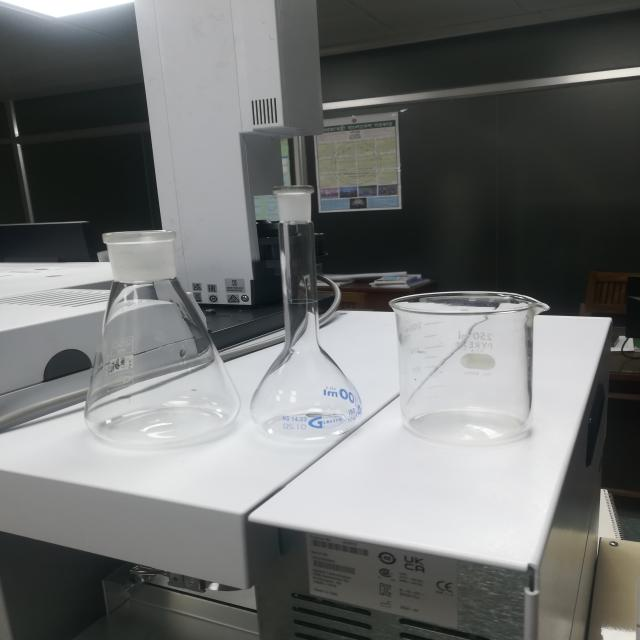Beaker: (379, 265, 562, 444)
Conical_Flask: (59, 195, 232, 448)
Volumetric_Flask: (254, 176, 354, 469)
